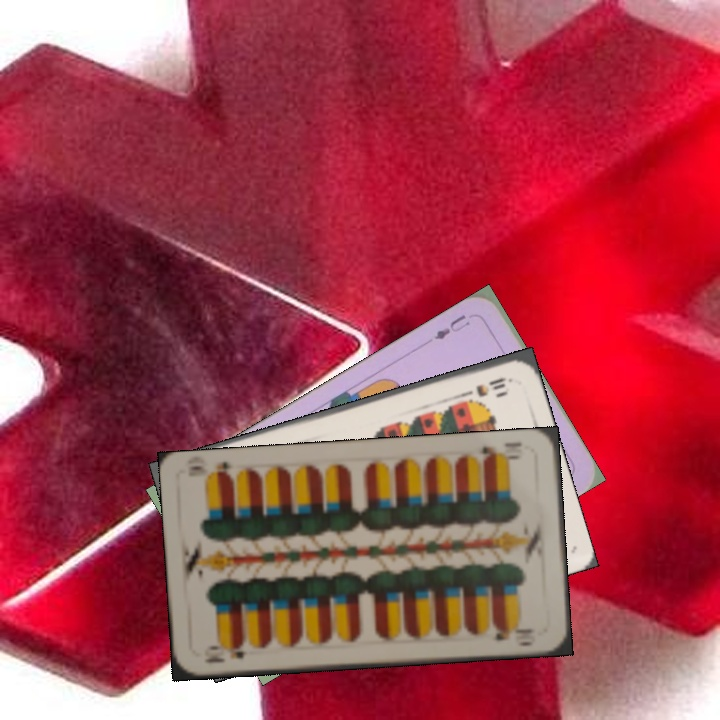E10: (200, 640, 250, 666), (477, 442, 523, 465)
EU: (430, 310, 472, 343)
S10: (457, 373, 515, 400)
